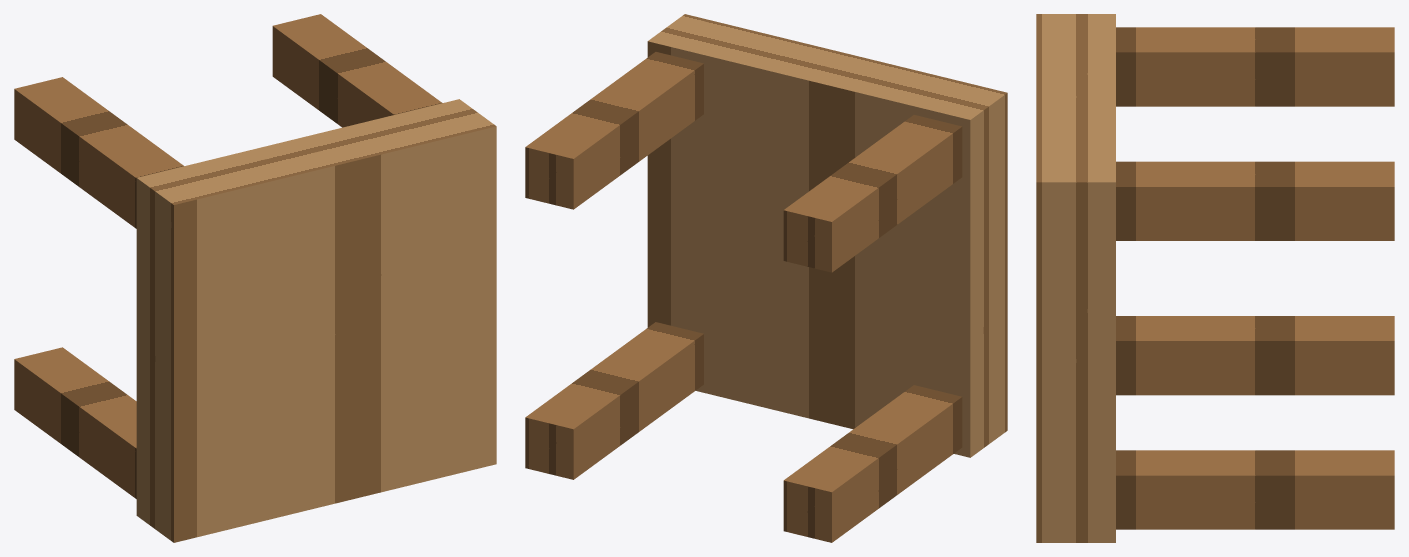
Rendered from stool.glb.
3 renders of one model, left to right at view 1: azimuth 30°, elevation 25°; view 2: azimuth 150°, elevation 25°; view 3: azimuth 270°, elevation 25°, orthographic. The views are drawn at different scales.
Parts seen in each view (by area): view 1: stool; view 2: stool; view 3: stool.
Boxes of the visible parts, left/top/right/bottom form: stool: left=14, top=14, right=496, bottom=542; stool: left=525, top=14, right=1007, bottom=542; stool: left=1036, top=14, right=1394, bottom=542.
Size of the model in its own units: 0.625 by 0.625 by 0.5625.
Materials: 1 (1 with a texture image).
